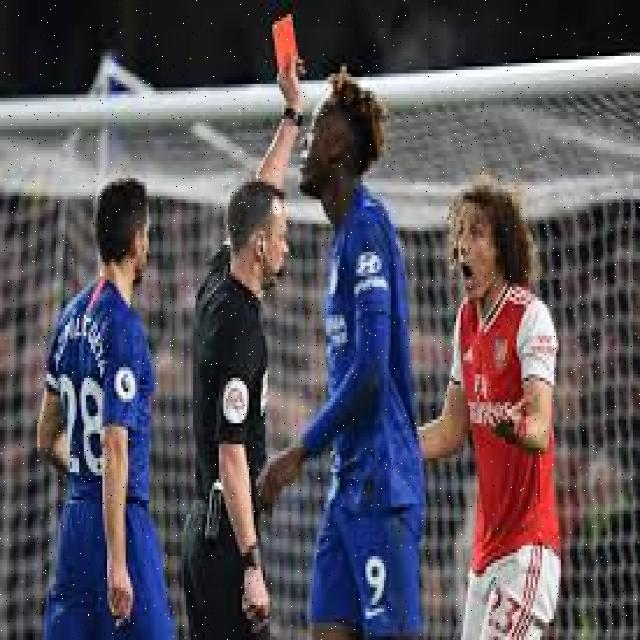red-card: (264, 8, 308, 133)
